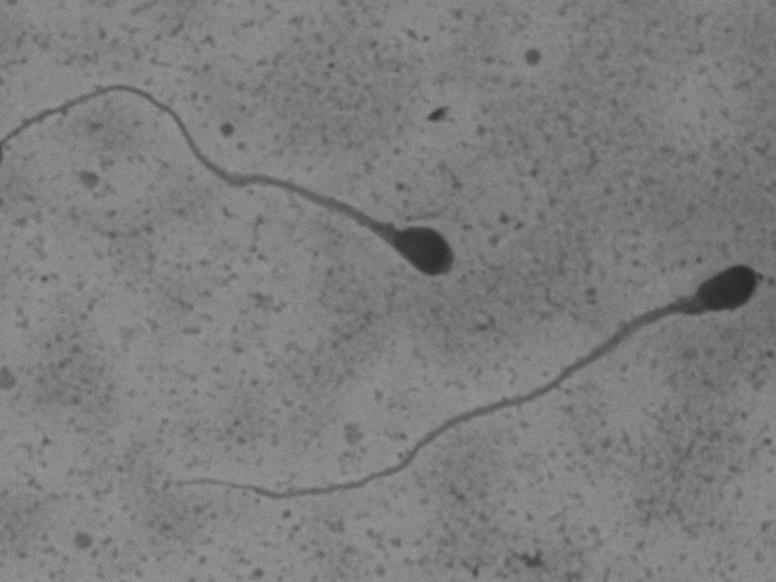Abnormal: (163, 244, 766, 514), (18, 46, 482, 311)
